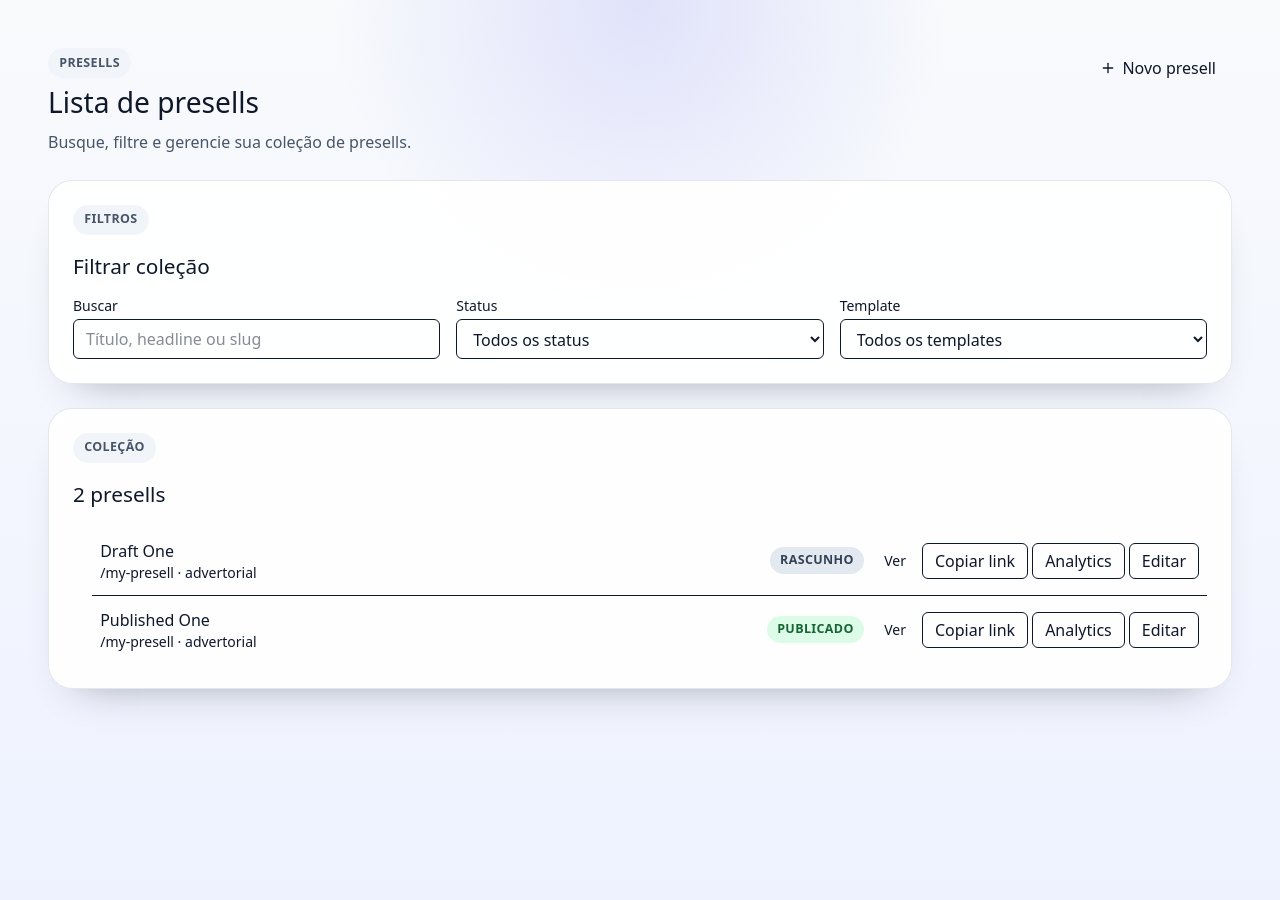
Test: PresellListPage › filters presells by status
Check: the text "Draft One" is shown, box [100,540,174,562]
Select "Publicado" in the dropdown labelled "Status" at (640, 339), box [456,319,824,359]
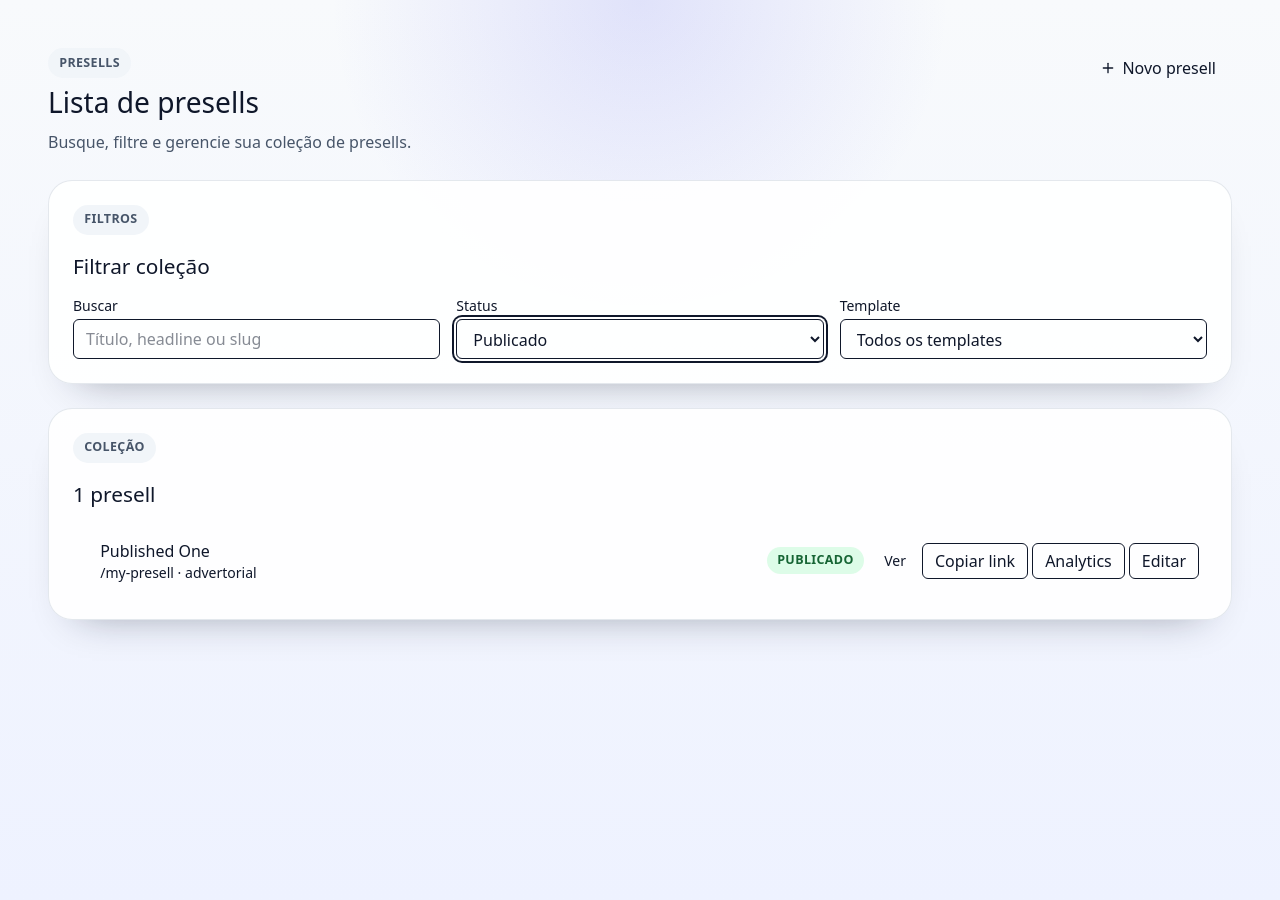
Check: the text "Published One" is shown, box [100,540,210,562]
Check: the text "Draft One" is gone
